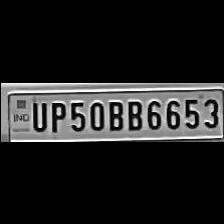0: (86, 97, 104, 130)
3: (200, 94, 218, 128)
5: (66, 97, 86, 131), (182, 94, 198, 128)
6: (143, 96, 161, 130), (162, 95, 180, 129)
B: (105, 97, 124, 131), (124, 96, 142, 130)
P: (46, 97, 66, 132)
U: (28, 98, 46, 132)
